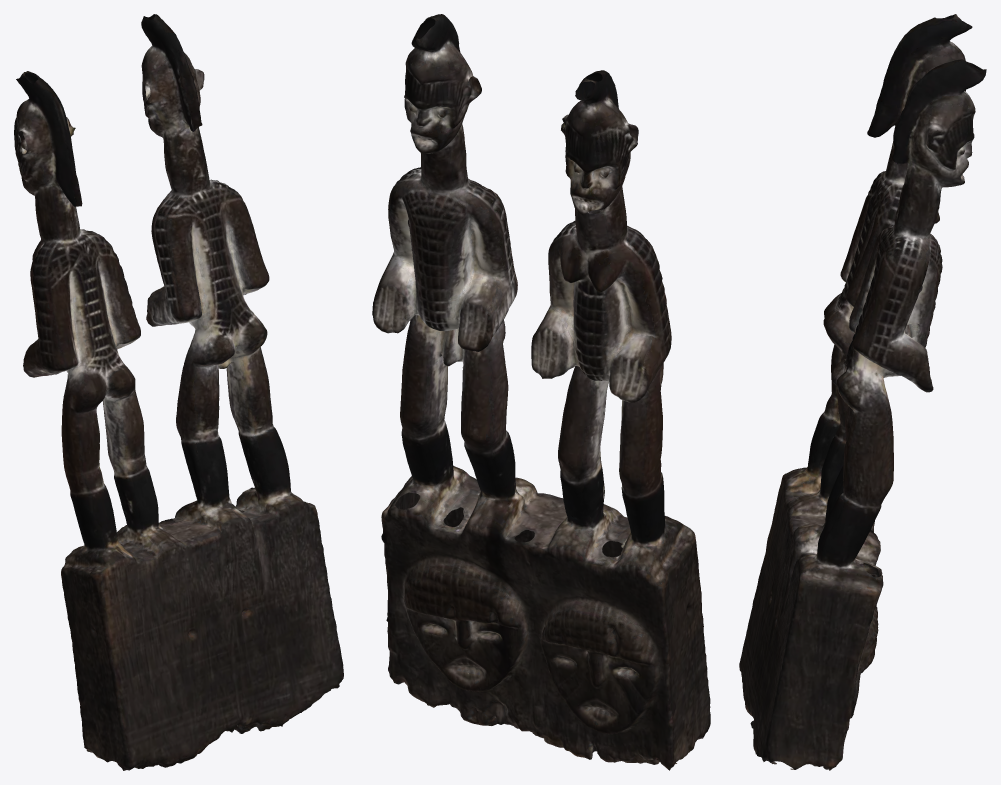
File: preview.glb
The picture shows the model from 3 angles, left to right: view 1: azimuth 30°, elevation 25°; view 2: azimuth 150°, elevation 25°; view 3: azimuth 270°, elevation 25°; orthographic projection. The views are drawn at different scales.
Parts seen in each view (by area): view 1: Object_2; view 2: Object_2; view 3: Object_2.
Boxes of the visible parts, box(x1,y1,x2,y2) form: Object_2: box(14, 14, 343, 770); Object_2: box(372, 14, 710, 770); Object_2: box(739, 14, 986, 770).
Size of the model in its own units: 233 by 575 by 186.
Materials: 1 (1 with a texture image).
